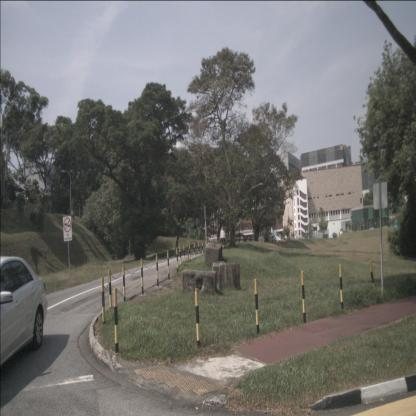vehicle-car: (0, 256, 48, 368), (272, 236, 282, 243), (266, 235, 276, 242)
